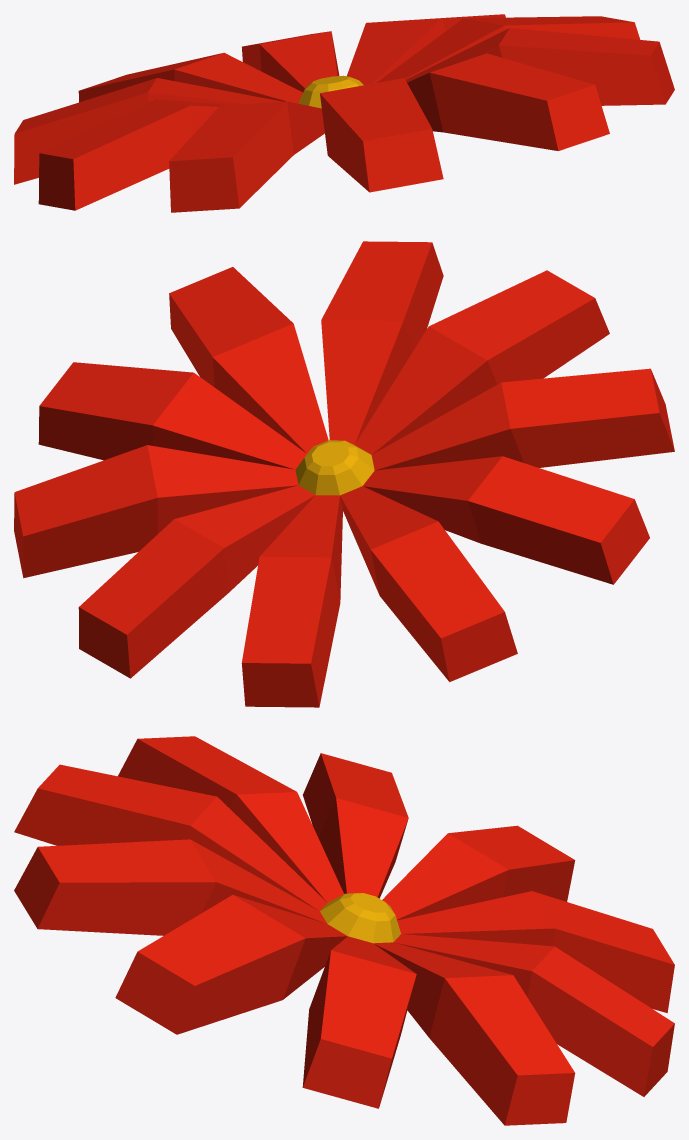
The model's file is Flower_petals.fbx.
3 views of the same model, one above another, from view 1: azimuth 30°, elevation 25°; view 2: azimuth 150°, elevation 25°; view 3: azimuth 270°, elevation 25° (orthographic). The views are drawn at different scales.
Parts seen in each view (by area): view 1: Flower2; view 2: Flower2; view 3: Flower2.
Boxes of the visible parts, left/top/right/bottom form: Flower2: left=14, top=14, right=674, bottom=212; Flower2: left=14, top=241, right=674, bottom=707; Flower2: left=14, top=736, right=674, bottom=1125.
Bounding box in the file's own units: 25.79 × 9.24 × 24.61.
